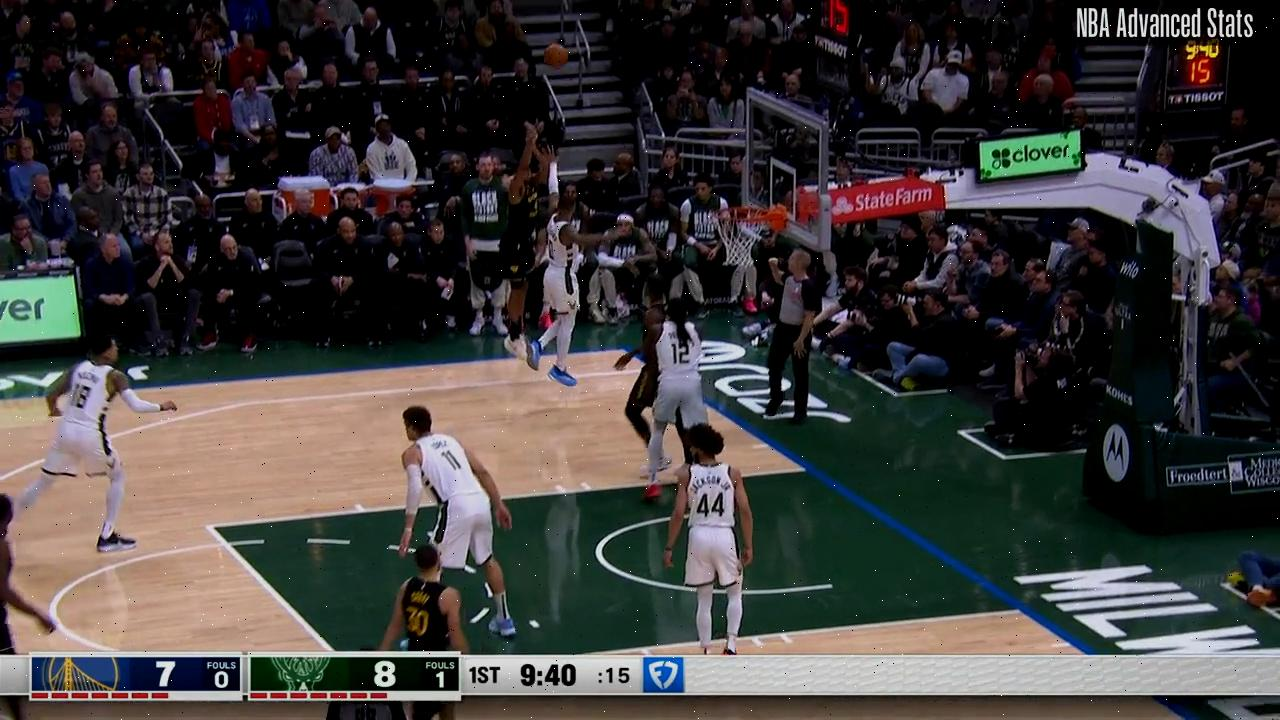basketball: (539, 43, 569, 71)
